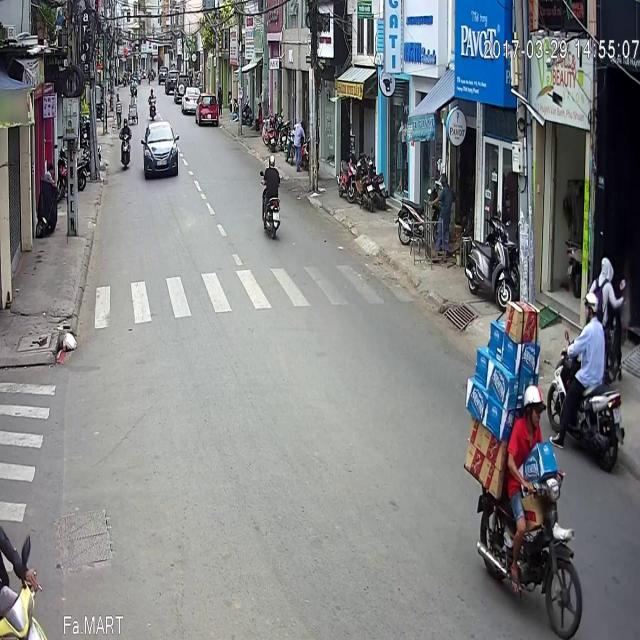car: (140, 62, 180, 121), (194, 34, 218, 68)
motorcycle: (476, 327, 582, 609), (546, 235, 624, 412), (259, 95, 281, 181), (118, 59, 132, 113)
